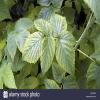Raspberry leaf: (55, 37, 76, 80), (21, 30, 46, 65), (39, 36, 55, 77), (48, 12, 68, 38), (16, 28, 34, 54), (7, 31, 17, 62), (33, 20, 51, 37), (14, 17, 35, 31), (60, 31, 77, 48)
